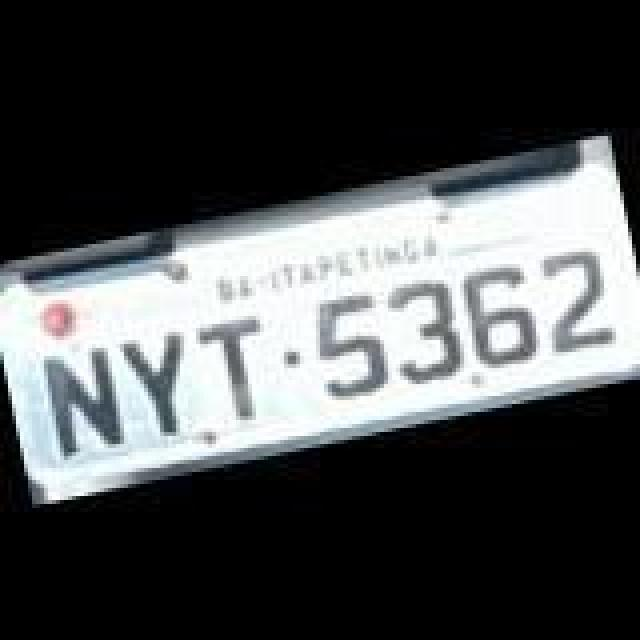2: (526, 232, 626, 360)
3: (374, 270, 466, 394)
5: (298, 284, 390, 404)
6: (450, 250, 542, 374)
N: (38, 338, 130, 462)
T: (188, 304, 276, 424)
Y: (112, 324, 200, 444)
